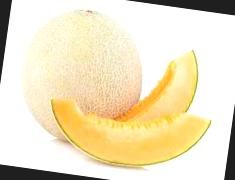Melon Ripe: (13, 2, 152, 150), (41, 93, 213, 179)
